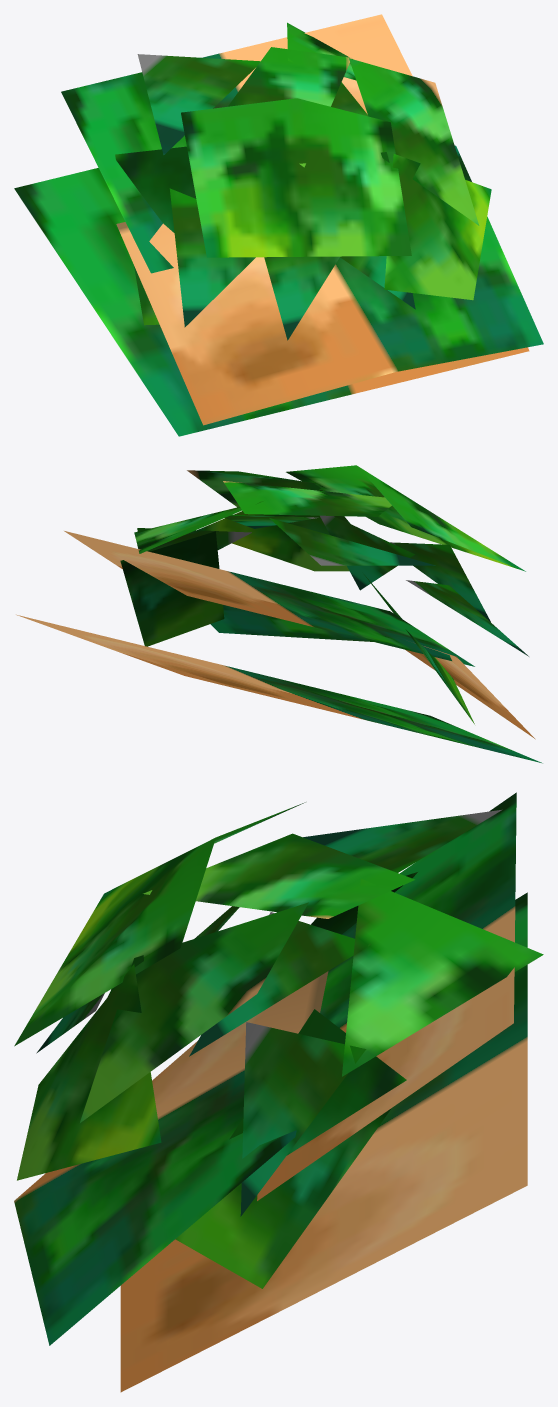
The model's file is fg_bushD_2_re.dae.
3 views of the same model, one above another, from view 1: azimuth 30°, elevation 25°; view 2: azimuth 150°, elevation 25°; view 3: azimuth 270°, elevation 25° (orthographic). The views are drawn at different scales.
Visible parts, largest first — view 1: fg_bushD_2_re; view 2: fg_bushD_2_re; view 3: fg_bushD_2_re.
Part boxes in pixels (x1,y1,x2,y2): fg_bushD_2_re: (14,14,543,436); fg_bushD_2_re: (16,465,542,763); fg_bushD_2_re: (14,792,543,1392).
Size of the model in its own units: 47.83 by 31.26 by 36.53.
Materials: 1 (1 with a texture image).
